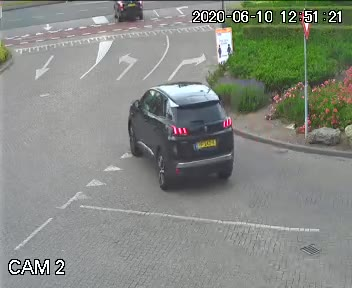car: (117, 76, 241, 195), (109, 0, 145, 30)
